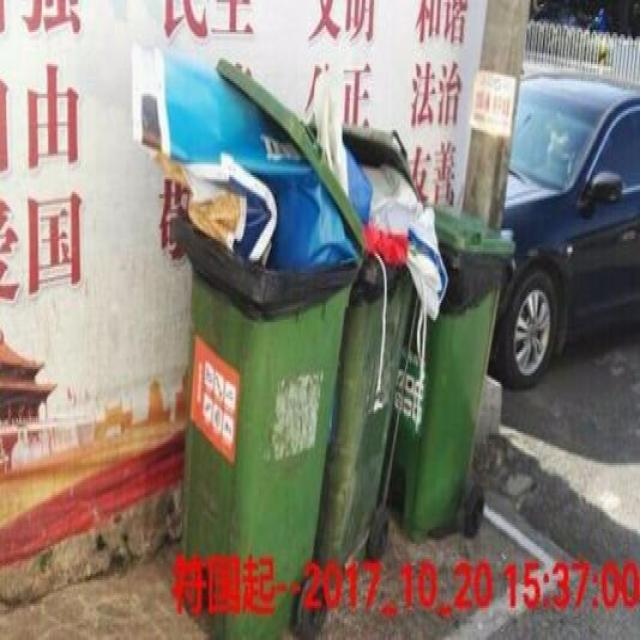garbage_bin: (381, 198, 513, 532)
overflow: (131, 43, 364, 638), (310, 122, 446, 580)
